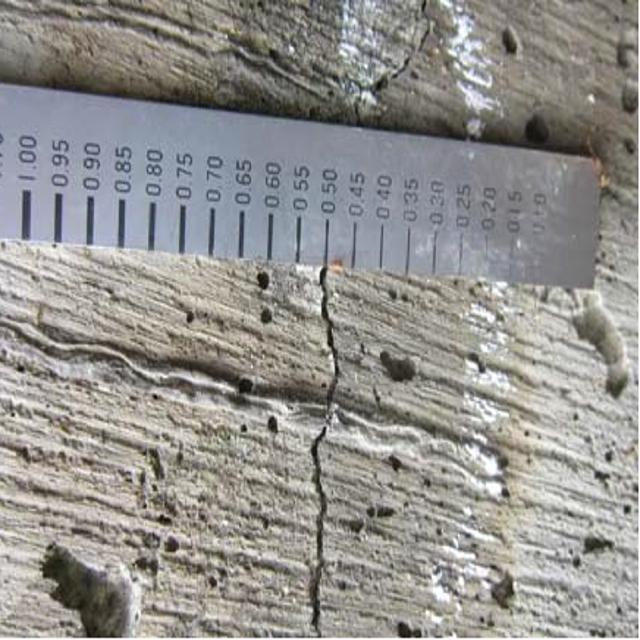crack: (308, 275, 345, 640)
